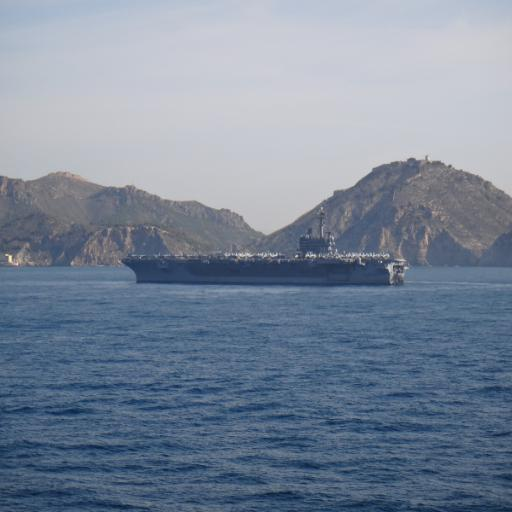Portanaves: (120, 205, 412, 288)
